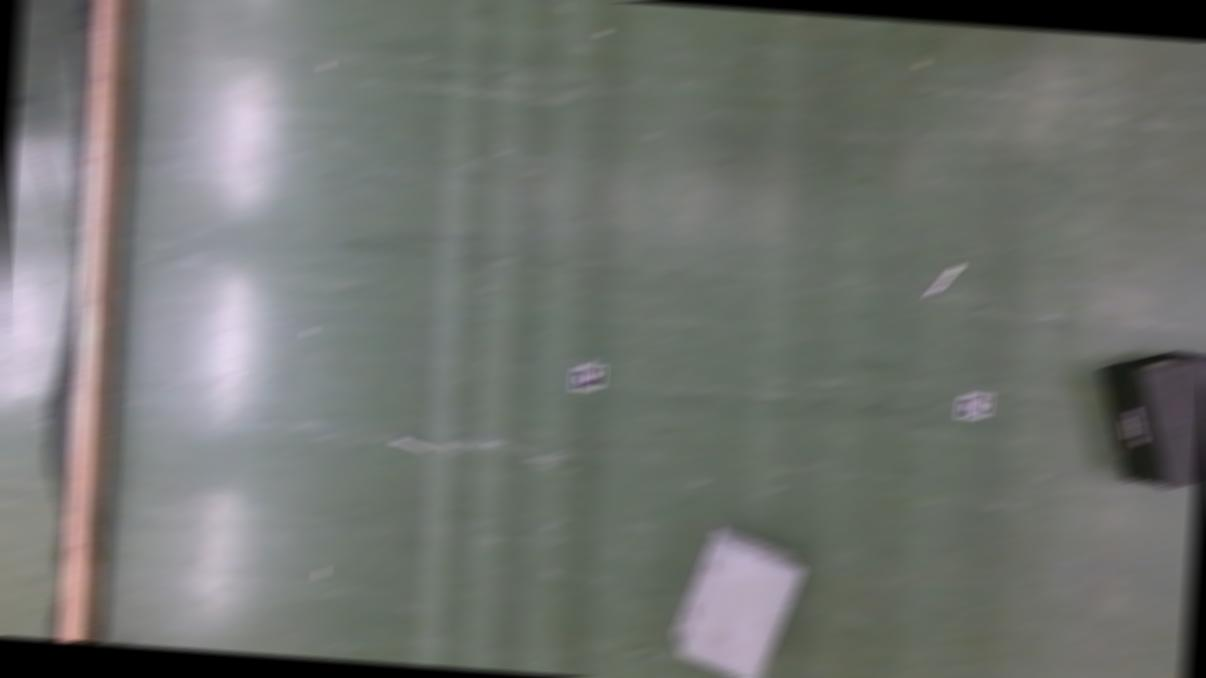probes: (925, 262, 959, 298)
rako: (668, 522, 806, 678), (1090, 345, 1206, 489)
